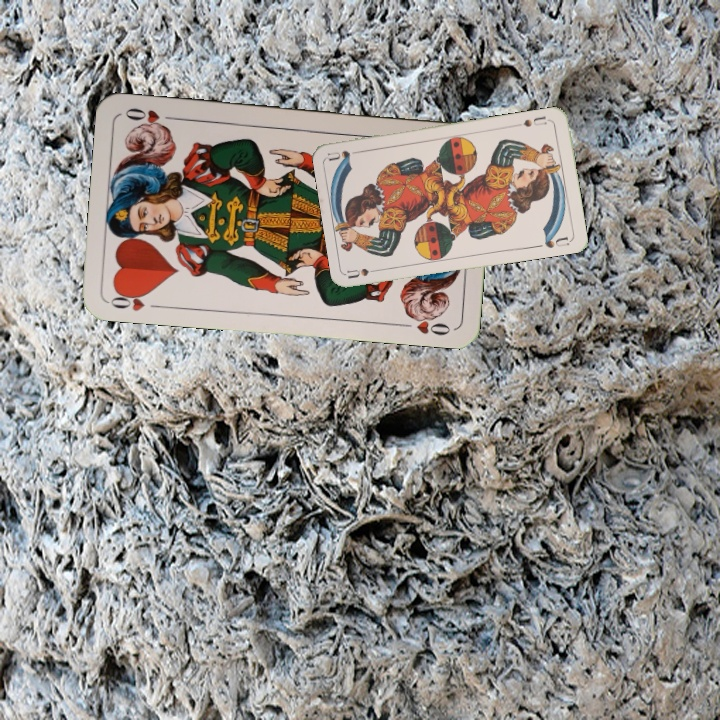HO: (106, 286, 164, 314)
SU: (512, 112, 553, 130), (345, 264, 385, 280)
